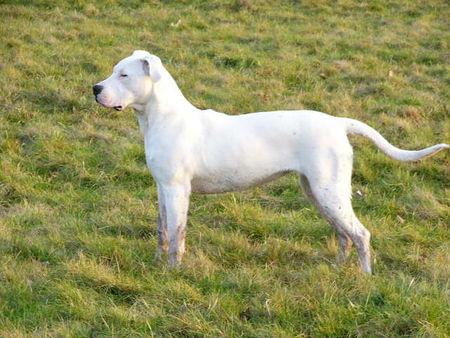dogo_argentino: (91, 48, 450, 276)
